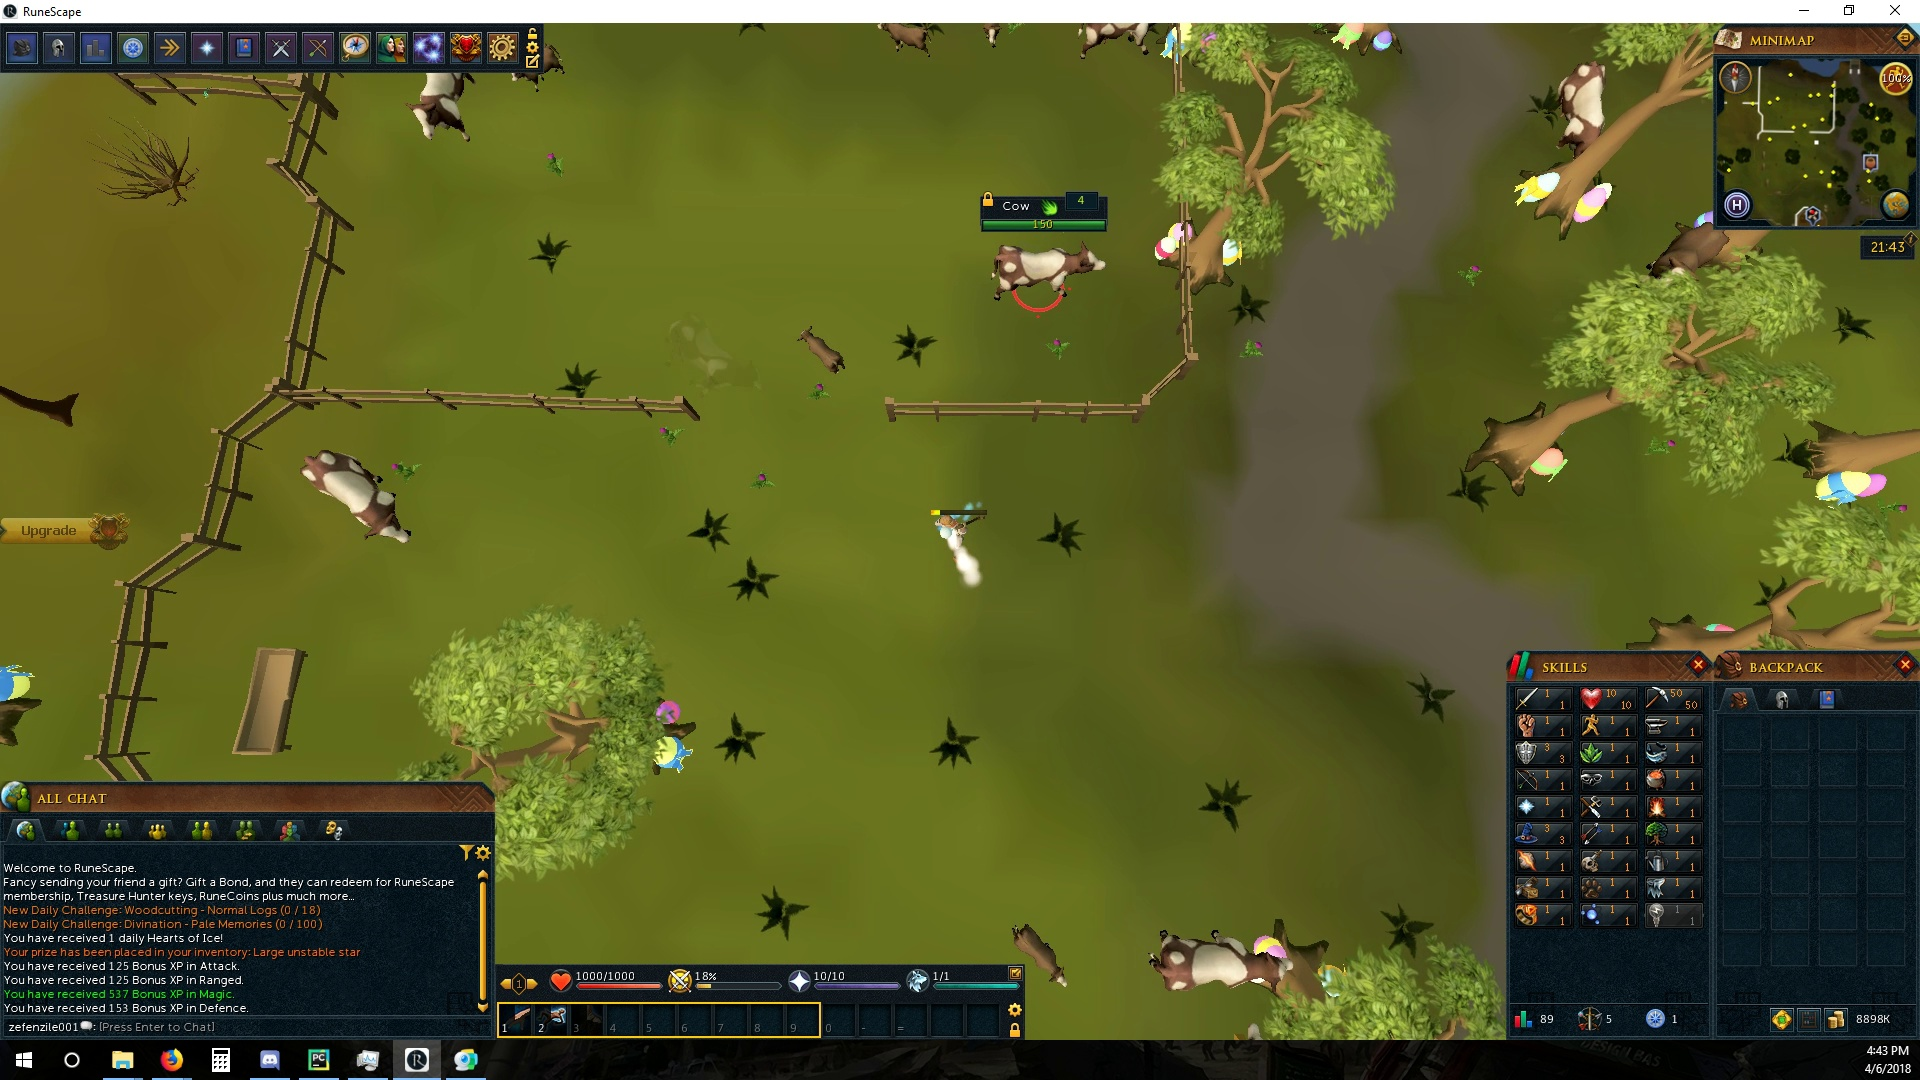calf: (1011, 926, 1071, 989), (795, 327, 847, 375), (880, 22, 936, 61)
cow: (295, 450, 413, 549), (1138, 923, 1294, 997), (984, 243, 1108, 305), (1549, 59, 1607, 156), (407, 73, 477, 146), (1643, 222, 1731, 278)
